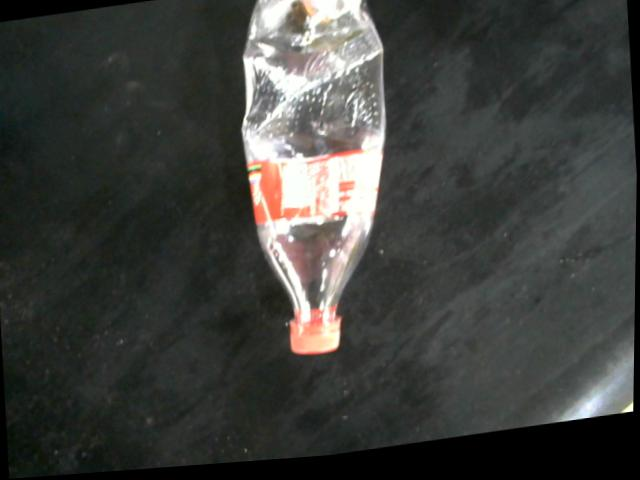bottle: (241, 0, 386, 358)
